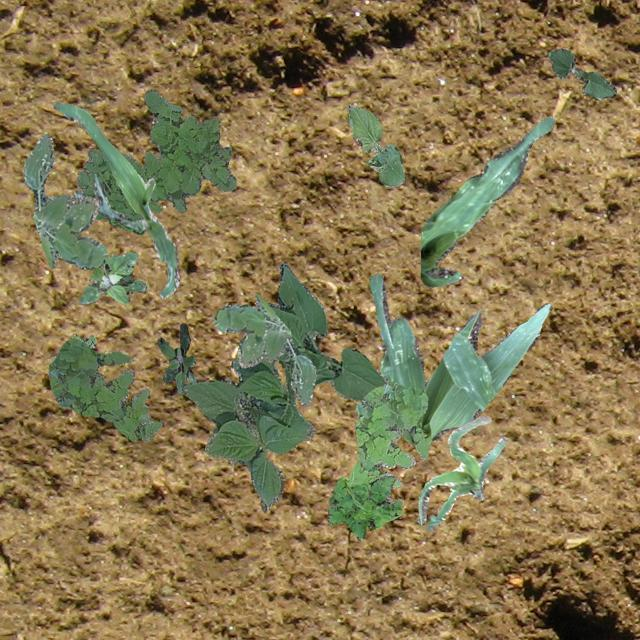crop: (179, 263, 387, 512), (369, 272, 552, 443), (52, 100, 178, 298), (420, 115, 554, 286), (416, 416, 506, 530), (346, 104, 404, 185), (548, 48, 616, 98)
weed: (76, 89, 236, 232), (48, 338, 160, 442), (214, 292, 316, 404), (22, 134, 106, 268), (346, 380, 428, 490), (326, 474, 402, 540), (78, 250, 146, 304), (157, 322, 196, 394), (48, 332, 96, 360)
